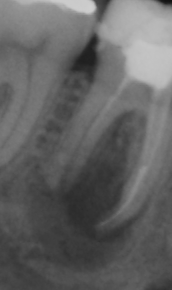fracture: (94, 163, 150, 231)
